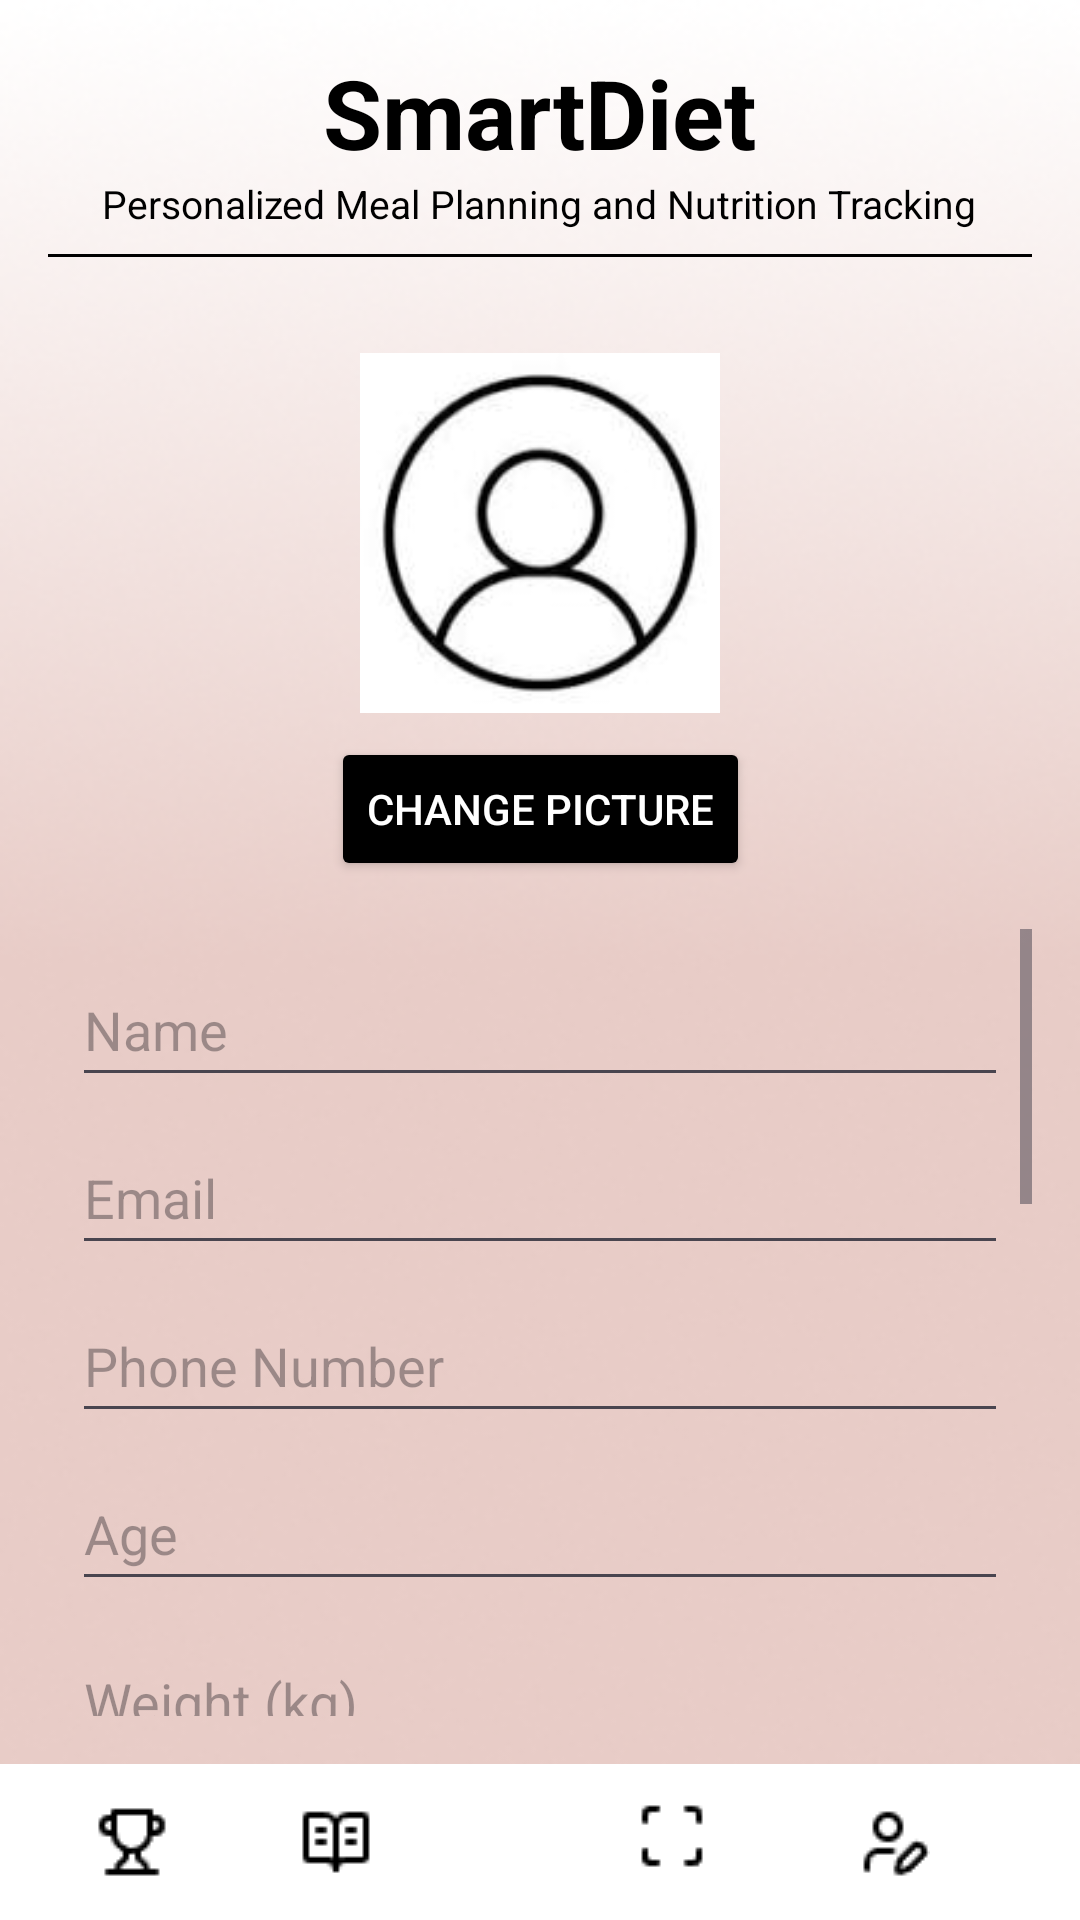

Locate icon controls on the screen. Image size 1080px×1920px, boxes as (x1, y1, x2, y2).
book open text: (302, 1811, 370, 1873)
Profile Picture: (360, 353, 720, 713)
scan: (641, 1805, 703, 1867)
trophy: (98, 1808, 166, 1876)
user pen: (863, 1811, 930, 1876)
